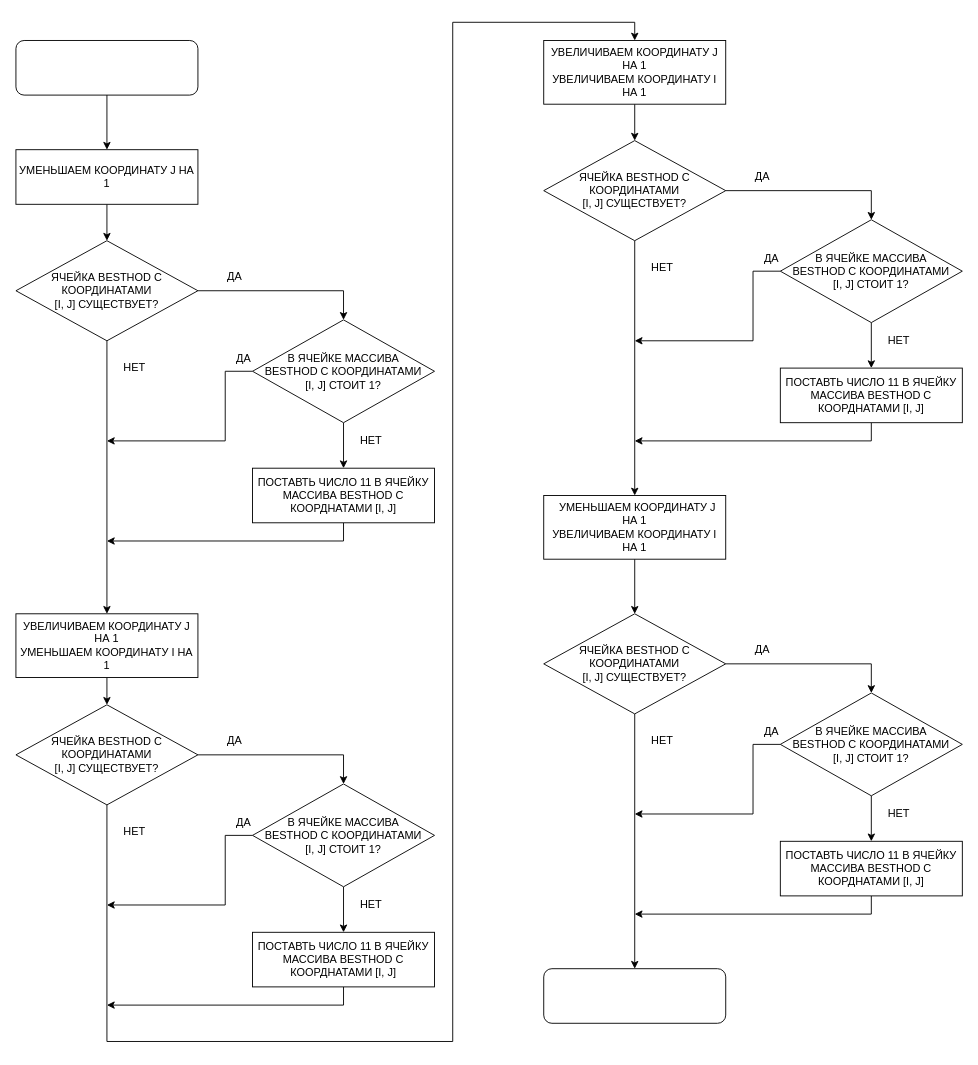
Image size: 978x1065. Some labels were removed from this diagram. The shapes that lost their labels are listed below. From the top down, each one's box as (x1, y1, x2, y2) in pixels, then its label:
(15, 40, 198, 95): 2 СОСТОЯНИЕ НАЧАЛО
(543, 968, 726, 1023): КОНЕЦ 2 СОСТОЯНИЕ
